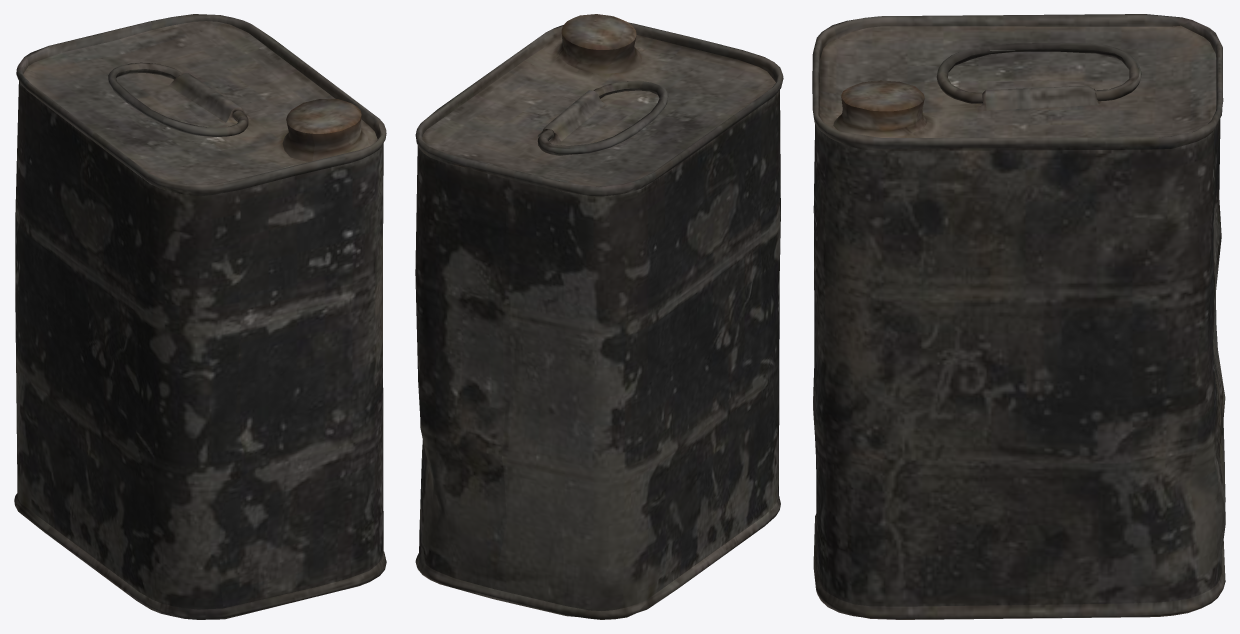
Rendered from oil_tin.glb.
3 renders of one model, left to right at view 1: azimuth 30°, elevation 25°; view 2: azimuth 150°, elevation 25°; view 3: azimuth 270°, elevation 25°, orthographic. The views are drawn at different scales.
Visible parts, largest first — view 1: oil_tin, oil_tin_handle; view 2: oil_tin, oil_tin_handle; view 3: oil_tin, oil_tin_handle.
Part boxes in pixels (x1=…): oil_tin: x1=14, y1=14, x2=386, y2=619; oil_tin_handle: x1=108, y1=62, x2=248, y2=137; oil_tin: x1=415, y1=14, x2=783, y2=619; oil_tin_handle: x1=537, y1=81, x2=668, y2=155; oil_tin: x1=812, y1=14, x2=1225, y2=619; oil_tin_handle: x1=936, y1=43, x2=1141, y2=103.
Bounding box in the file's own units: 0.1147 × 0.2052 × 0.1535.
1 material, 1 textured.
